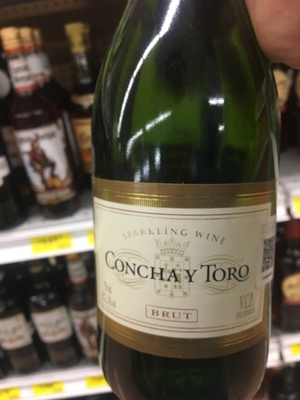brut: (77, 16, 294, 387)
